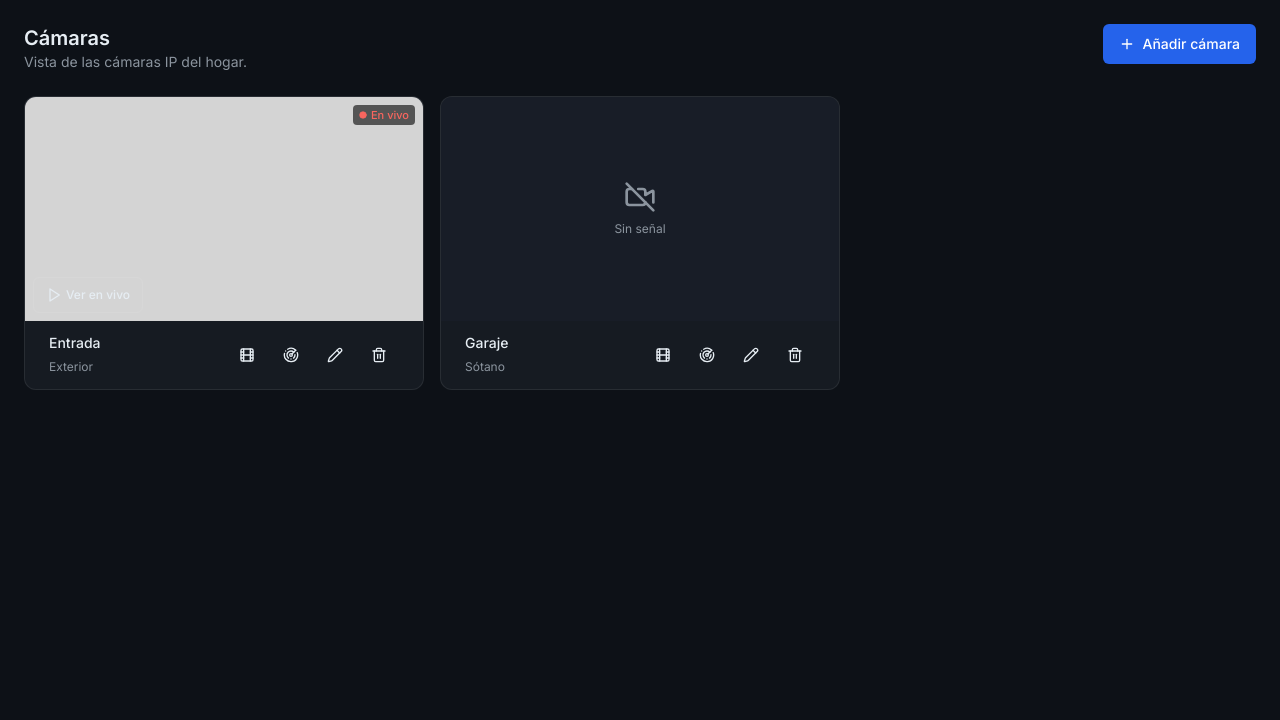
Scenario: CamerasPage › si el alta falla, muestra el error en el panel y un toast (US-96)
Expected: the text "Entrada" is shown, [49, 333, 100, 353]
Click the button "Añadir cámara": (1179, 44) [1102, 24, 1256, 64]
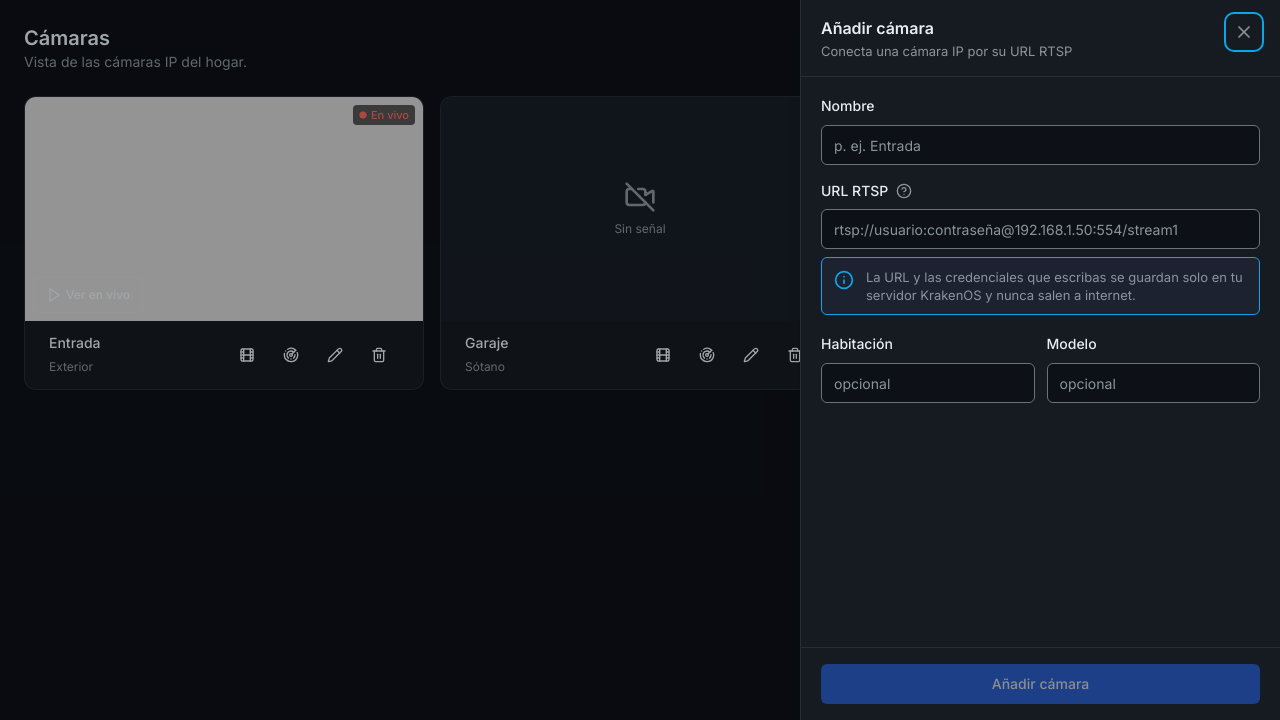
In the field labelled "Nombre": (1040, 145) [821, 125, 1260, 165], type "X"
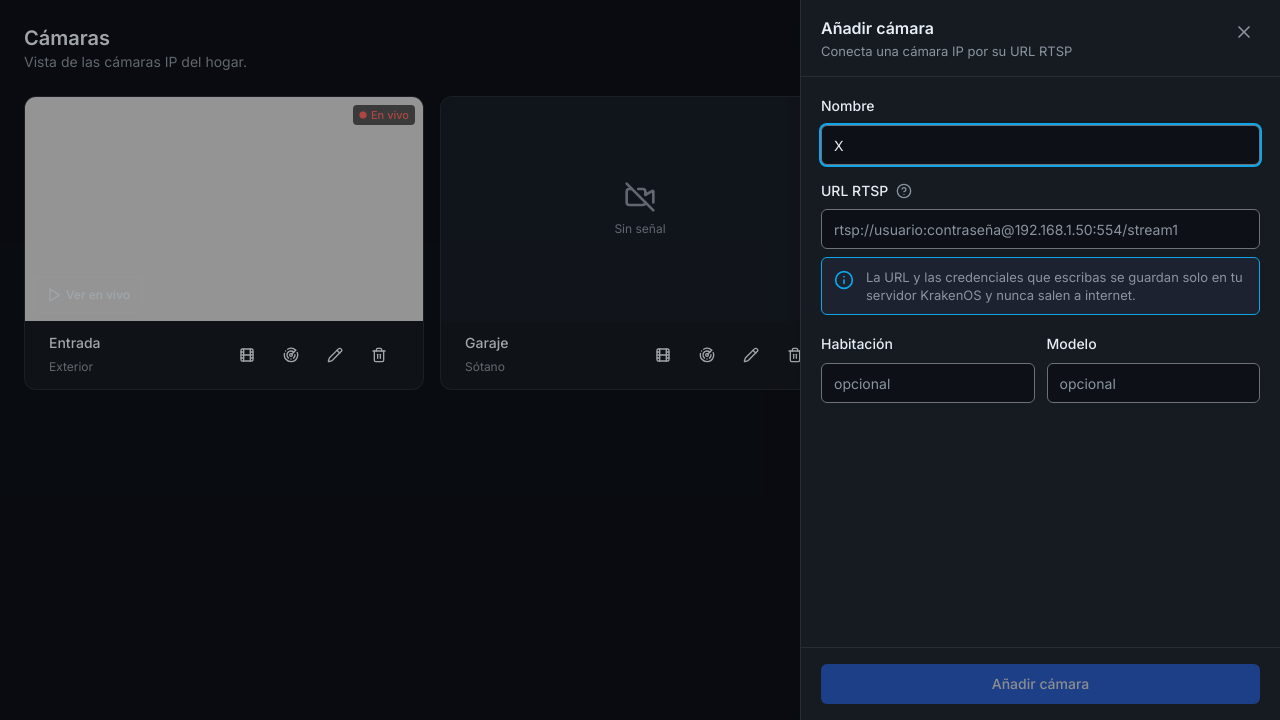
In the field labelled "URL RTSP": (1040, 229) [821, 209, 1260, 249], type "rtsp://x"
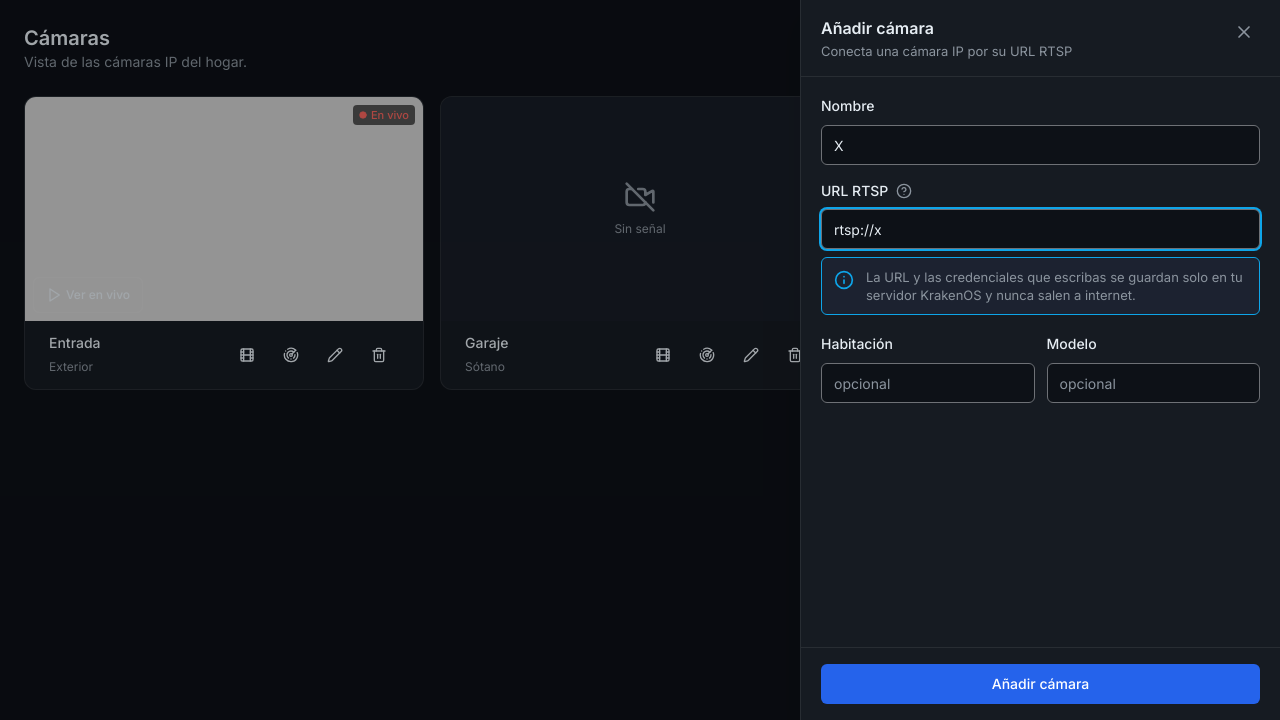
Click the button "Añadir cámara": (1040, 684) [821, 664, 1260, 704]
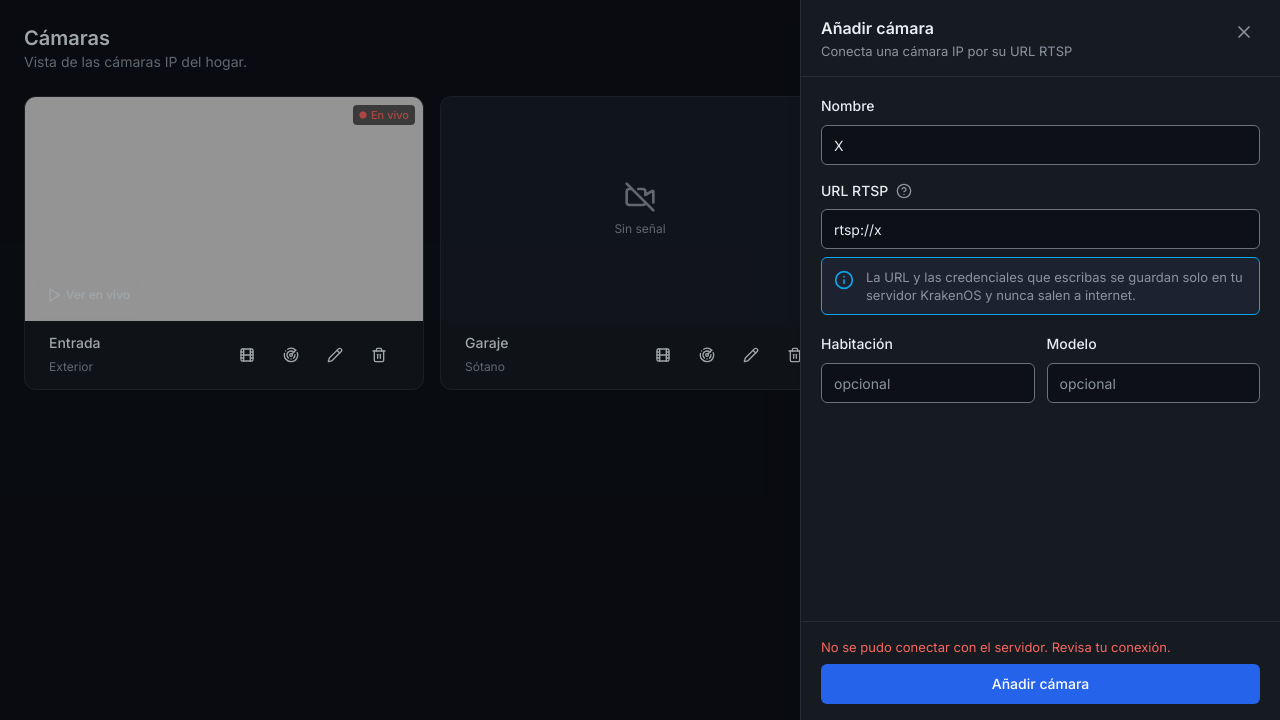
Now the text "No se pudo conectar con el servidor. Revisa tu conexión." is shown, box [821, 639, 1171, 655]
